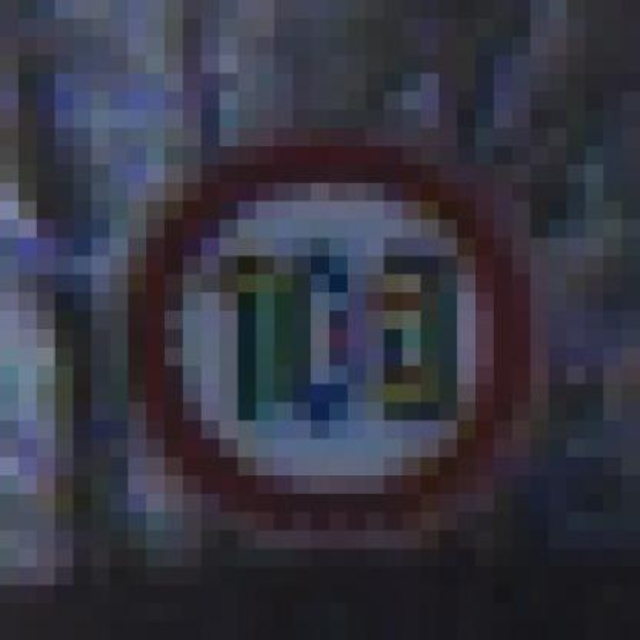Tốc độ tối đa cho phép 100km/h: (139, 146, 525, 523)
